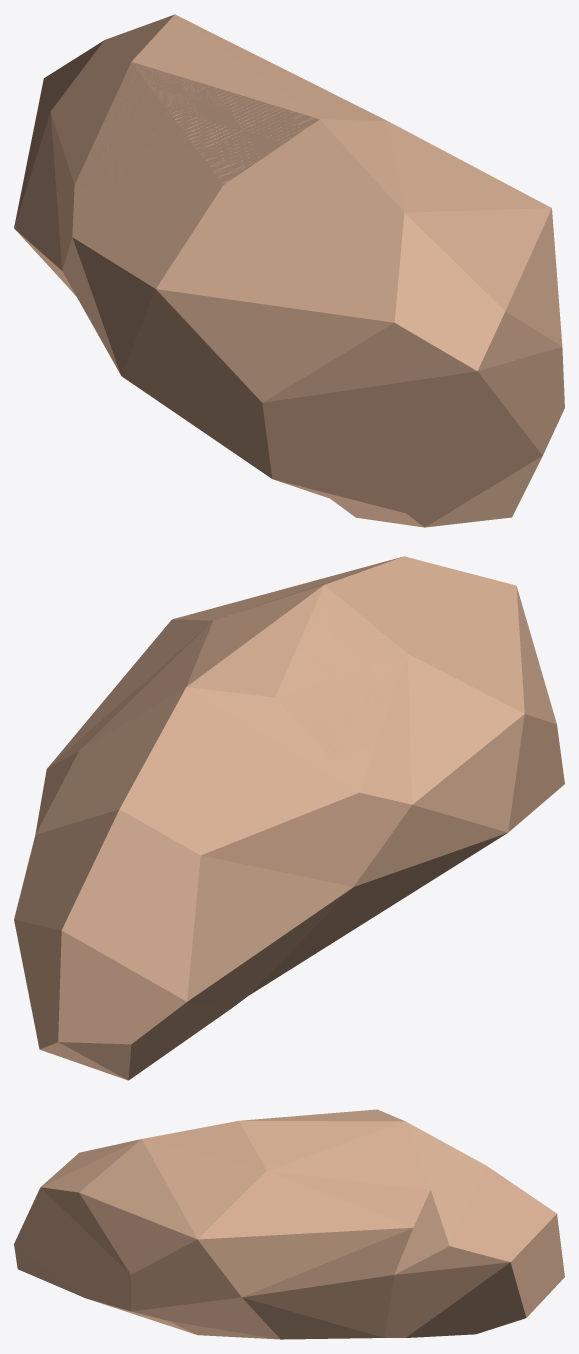
File: RawIron.fbx
The picture shows the model from 3 angles, top to bottom: view 1: azimuth 30°, elevation 25°; view 2: azimuth 150°, elevation 25°; view 3: azimuth 270°, elevation 25°; orthographic projection. The views are drawn at different scales.
Visible parts, largest first — view 1: Raw_Iron; view 2: Raw_Iron; view 3: Raw_Iron.
Boxes of the visible parts, box(x1,y1,x2,y2) form: Raw_Iron: box(14, 14, 564, 527); Raw_Iron: box(14, 556, 564, 1080); Raw_Iron: box(14, 1109, 564, 1339).
Bounding box in the file's own units: 7.77 × 7.05 × 16.41.
